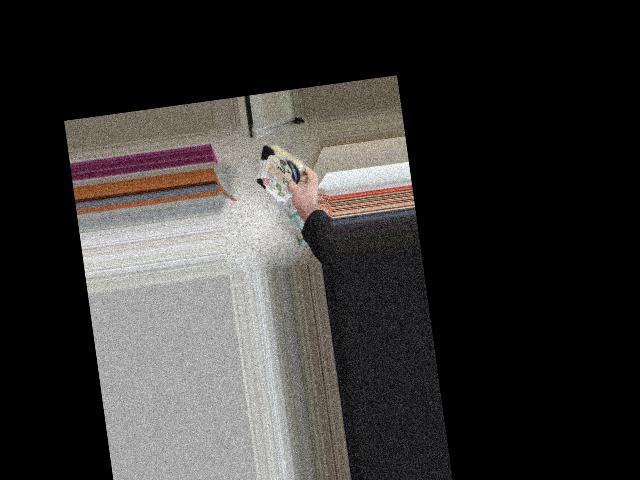cheese: (244, 138, 325, 202)
